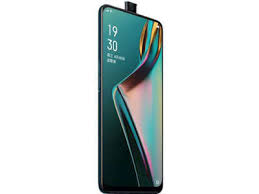oppo: (92, 2, 166, 192)
